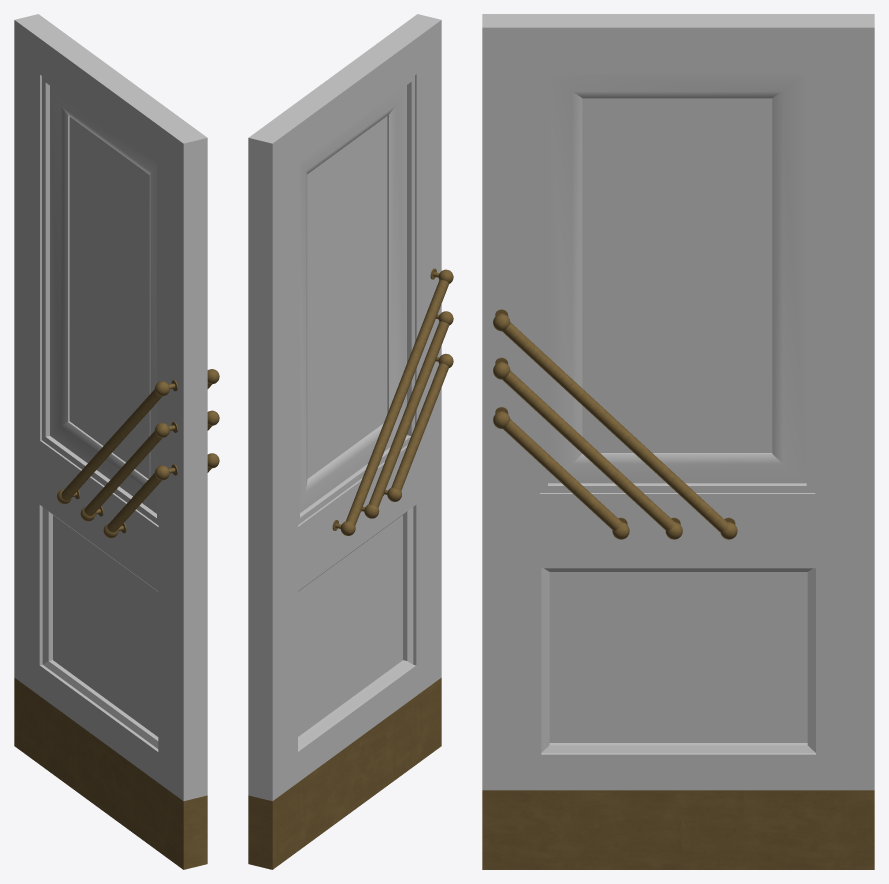
File: SM_WD17_DOOR_2.fbx
The picture shows the model from 3 angles, left to right: view 1: azimuth 30°, elevation 25°; view 2: azimuth 150°, elevation 25°; view 3: azimuth 270°, elevation 25°; orthographic projection. The views are drawn at different scales.
Visible parts, largest first — view 1: SM_WD17_DOOR_2; view 2: SM_WD17_DOOR_2; view 3: SM_WD17_DOOR_2.
Boxes of the visible parts, x1,y1,x2,y2 form: SM_WD17_DOOR_2: [14, 14, 219, 869]; SM_WD17_DOOR_2: [248, 14, 453, 869]; SM_WD17_DOOR_2: [482, 14, 874, 869].
Bounding box in the file's own units: 22.6 × 106 × 250.
